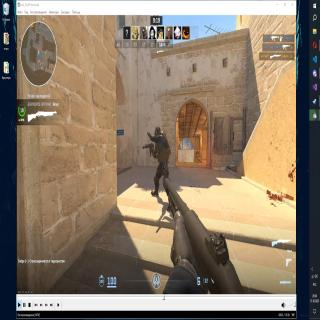CT-Body: (148, 125, 172, 207)
CT-Head: (154, 124, 162, 137)
